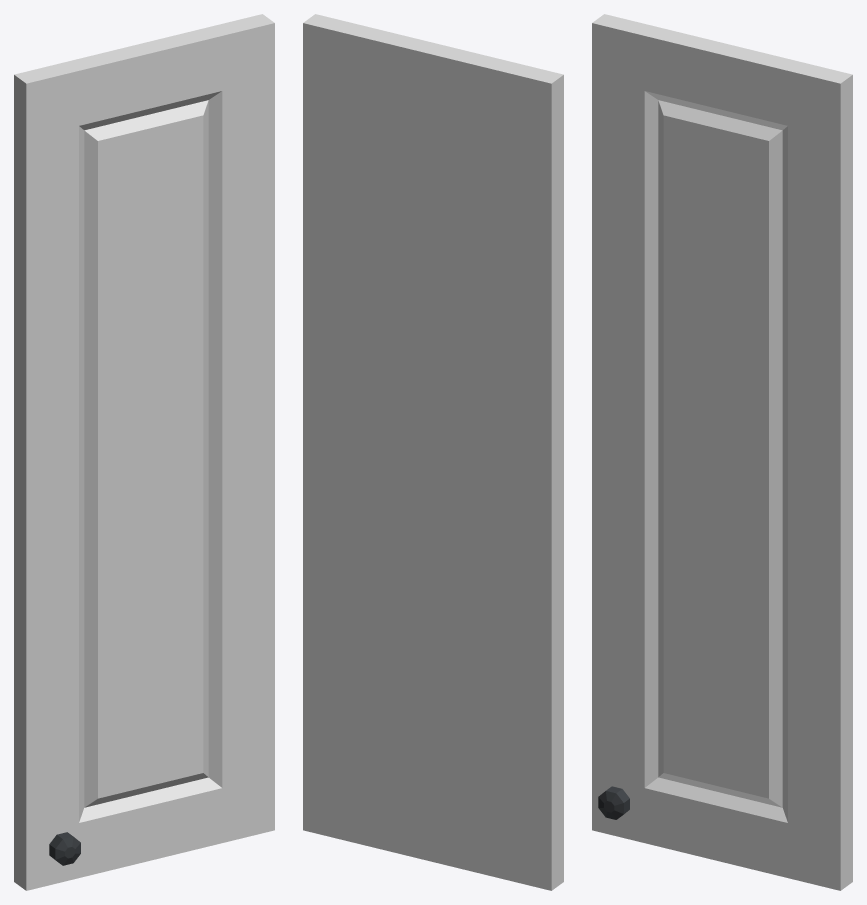
Rendered from Door3_C1_13.fbx.
The picture shows the model from 3 angles, left to right: view 1: azimuth 30°, elevation 25°; view 2: azimuth 150°, elevation 25°; view 3: azimuth 330°, elevation 25°; orthographic projection.
Parts seen in each view (by area): view 1: Door3_C1_13; view 2: Door3_C1_13; view 3: Door3_C1_13.
Part boxes in pixels (bbox=[...]): Door3_C1_13: bbox=[14, 14, 274, 890]; Door3_C1_13: bbox=[303, 14, 563, 890]; Door3_C1_13: bbox=[592, 14, 852, 890].
Bounding box in the file's own units: 29 × 90 × 5.19.
